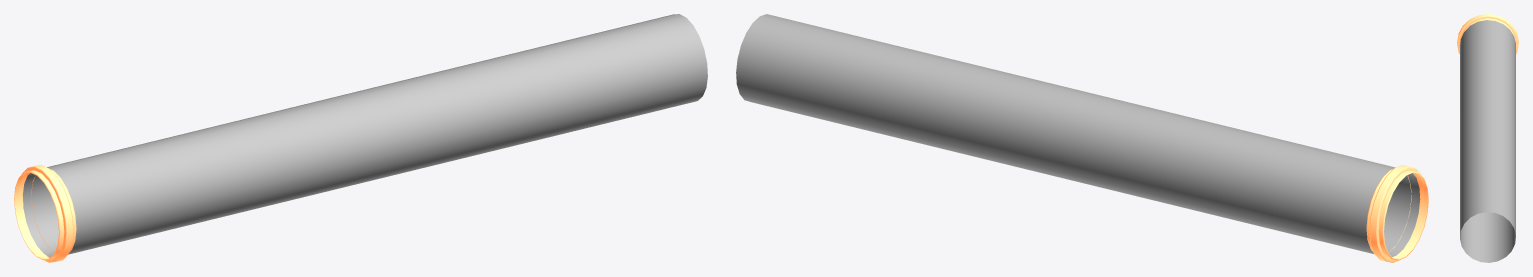
The model's file is SM_Smallpipe1.fbx.
3 renders of one model, left to right at view 1: azimuth 30°, elevation 25°; view 2: azimuth 150°, elevation 25°; view 3: azimuth 270°, elevation 25°, orthographic. The views are drawn at different scales.
Parts seen in each view (by area): view 1: SM_Smallpipe1_LOD0; view 2: SM_Smallpipe1_LOD0; view 3: SM_Smallpipe1_LOD0.
Part boxes in pixels (<box>): SM_Smallpipe1_LOD0: <box>14,14,707,262</box>; SM_Smallpipe1_LOD0: <box>736,14,1428,262</box>; SM_Smallpipe1_LOD0: <box>1457,14,1518,262</box>.
Size of the model in its own units: 385 by 50.94 by 50.94.
